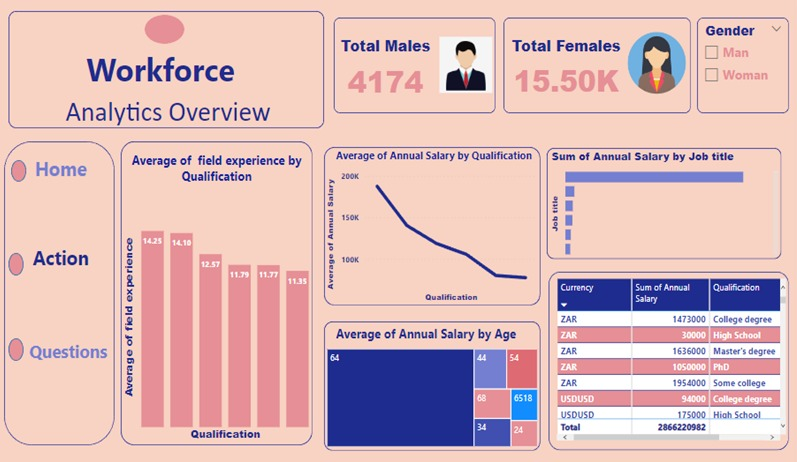

The dashboard page shown, as its layout file describes it:
{"tool":"powerbi","page":{"name":"Home","canvas":[1280,720],"ordinal":0},"visuals":[{"type":"shape","box":[17,15.6,542.8,161.6],"z":1000},{"type":"shape","box":[572.6,21.3,248,161.6],"z":2000},{"type":"shape","box":[836.2,21.3,277.8,158.7],"z":3000},{"type":"shape","box":[1126.8,21.3,141.7,154.5],"z":4000},{"type":"shape","box":[192.8,222.5,301.9,447.9],"z":5000},{"type":"shape","box":[523,231.2,346.8,239.5],"z":6000},{"type":"shape","box":[523,494.1,346.8,195.4],"z":7000},{"type":"shape","box":[883.6,419.8,385.4,269.8],"z":8000},{"type":"shape","box":[880.2,226.8,377,172.9],"z":9000},{"type":"textbox","box":[83.6,65.2,446.5,69.4],"z":10000},{"type":"textbox","box":[83.6,124.7,439.4,58.1],"z":11000},{"type":"shape","box":[249.4,21.3,63.8,43.9],"z":12000},{"type":"card","title":"Total Males","fields":{"Values":["CountNonNull(Sheet1 (2).Male)"]},"box":[572.6,56.7,137.5,106.3],"z":13000},{"type":"card","title":"Total Females","fields":{"Values":["CountNonNull(Sheet1 (2).Female)"]},"box":[836.2,53.9,187.1,106.3],"z":14000},{"type":"image","box":[710.1,43.9,110.6,123.3],"z":15000},{"type":"image","box":[1023.3,39.7,90.7,137.5],"z":16000},{"type":"pieChart","title":"Gender Distribution by Job Role","fields":{"Category":["Sheet1 (2).Gender"],"Y":["Count(Sheet1 (2).Job title)"]},"box":[883,425.2,385.5,256.5],"z":17000},{"type":"barChart","title":"Years of experience by Industry","fields":{"Category":["Sheet1 (2).industry"],"Y":["Sum(Sheet1 (2).years of experience in your field.2.1)"]},"box":[523,256.5,347.2,214],"z":18000},{"type":"filledMap","fields":{"Category":["Sheet1 (2).country"]},"box":[880.2,260.8,377,140.3],"z":19000},{"type":"lineStackedColumnComboChart","fields":{"Category":["Sheet1 (2).industry"],"Y":["Sum(Sheet1 (2).Annual Salary)"]},"box":[192.8,290.6,301.9,368.5],"z":20000},{"type":"slicer","fields":{"Values":["Sheet1 (2).Gender"]},"box":[1126.8,21.3,141.7,154.5],"z":21000},{"type":"textbox","box":[530.6,231.7,333.2,47.2],"z":22000},{"type":"textbox","box":[206.9,231,277.8,82.2],"z":23000},{"type":"columnChart","fields":{"Y":["Sum(Sheet1 (2).Annual Salary)"],"Category":["Sheet1 (2).Qualification"]},"box":[523,528.7,347.2,160.2],"z":24000},{"type":"textbox","box":[523.4,494.8,346.1,45.8],"z":25000},{"type":"textbox","box":[883,231,258,59.5],"z":26000},{"type":"shape","box":[17,435.1,25.5,34],"z":28000},{"type":"actionButton","title":"Home","box":[45.4,311.8,109.1,52.4],"z":28500},{"type":"shape","box":[17,331.7,25.5,34],"z":29000},{"type":"shape","box":[17,528.7,29.8,31.2],"z":30000},{"type":"actionButton","title":"Home","box":[45.4,413.9,109.1,53.9],"z":31000},{"type":"actionButton","title":"Home","box":[45.4,517.3,141.7,53.9],"z":32000},{"type":"shape","box":[15.6,222.5,170.1,459.2],"z":32001}]}

Visuals, with their boxes in screenshot pixels (x1, y1, x2, y2), scaled from the page's 1280x720 canvas onto the 797x462 screenshot:
shape: <box>11,10,349,114</box>
shape: <box>357,14,511,117</box>
shape: <box>521,14,694,116</box>
shape: <box>702,14,790,113</box>
shape: <box>120,143,308,430</box>
shape: <box>326,148,542,302</box>
shape: <box>326,317,542,442</box>
shape: <box>550,269,790,442</box>
shape: <box>548,146,783,256</box>
textbox: <box>52,42,330,86</box>
textbox: <box>52,80,326,117</box>
shape: <box>155,14,195,42</box>
"Total Males" card: <box>357,36,442,105</box>
"Total Females" card: <box>521,35,637,103</box>
image: <box>442,28,511,107</box>
image: <box>637,25,694,114</box>
"Gender Distribution by Job Role" pieChart: <box>550,273,790,437</box>
"Years of experience by Industry" barChart: <box>326,165,542,302</box>
filledMap - Sheet1 (2).country: <box>548,167,783,257</box>
lineStackedColumnComboChart - Sheet1 (2).industry x Sum(Sheet1 (2).Annual Salary): <box>120,186,308,423</box>
slicer - Sheet1 (2).Gender: <box>702,14,790,113</box>
textbox: <box>330,149,538,179</box>
textbox: <box>129,148,302,201</box>
columnChart - Sum(Sheet1 (2).Annual Salary) x Sheet1 (2).Qualification: <box>326,339,542,442</box>
textbox: <box>326,317,541,347</box>
textbox: <box>550,148,710,186</box>
shape: <box>11,279,26,301</box>
"Home" actionButton: <box>28,200,96,234</box>
shape: <box>11,213,26,235</box>
shape: <box>11,339,29,359</box>
"Home" actionButton: <box>28,266,96,300</box>
"Home" actionButton: <box>28,332,116,367</box>
shape: <box>10,143,116,437</box>
